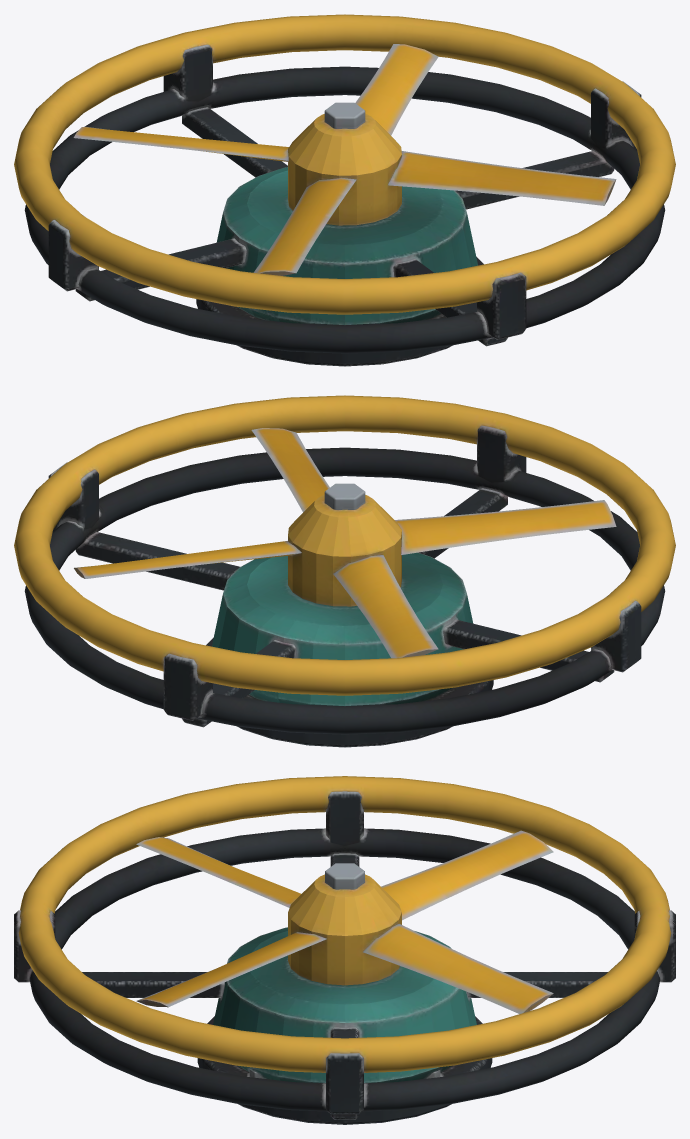
File: drone_rotor-v001.glb
3 views of the same model, one above another, from view 1: azimuth 30°, elevation 25°; view 2: azimuth 150°, elevation 25°; view 3: azimuth 270°, elevation 25° (orthographic).
Visible parts, largest first — view 1: DroneRotor; view 2: DroneRotor; view 3: DroneRotor.
Boxes of the visible parts, x1,y1,x2,y2 form: DroneRotor: (14, 14, 675, 366); DroneRotor: (14, 395, 675, 747); DroneRotor: (14, 776, 675, 1124).
Size of the model in its own units: 0.559 by 0.181 by 0.559.
1 material, 1 textured.
